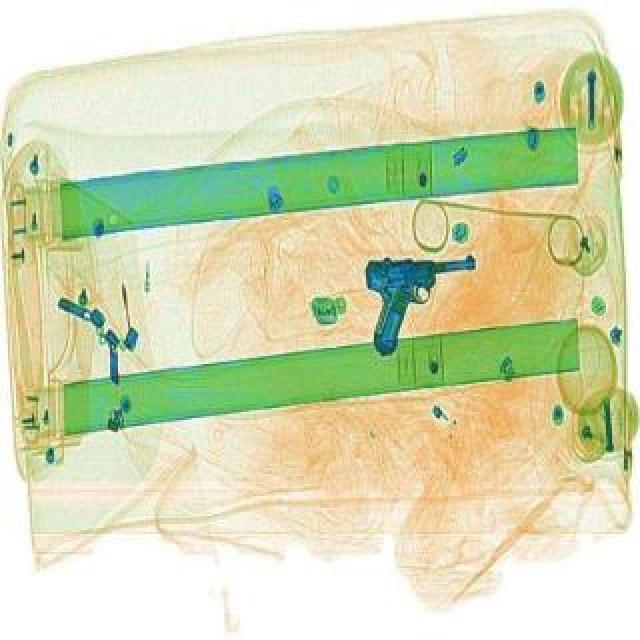gun: (360, 256, 476, 354)
